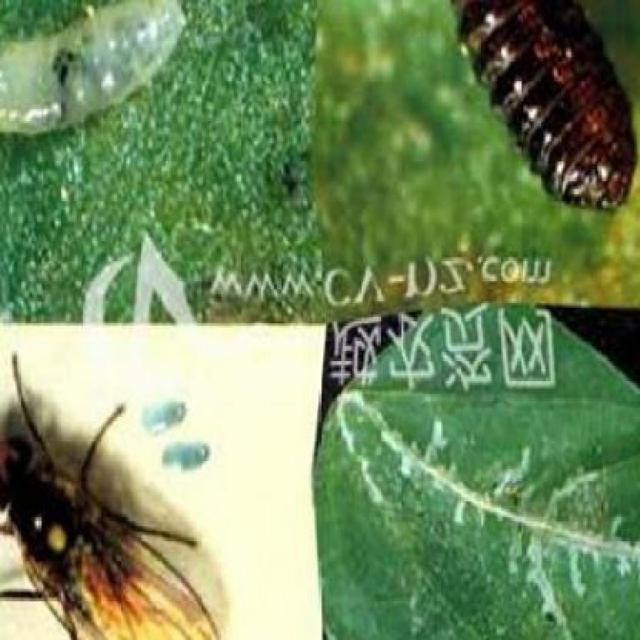whorl-maggot: (421, 0, 637, 225), (0, 0, 200, 143)
